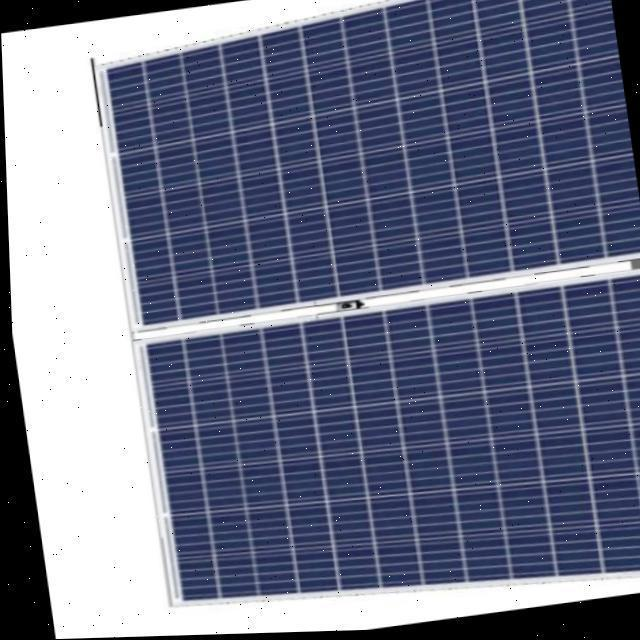Normal Solar Panel: (134, 276, 640, 636), (91, 0, 640, 329)
